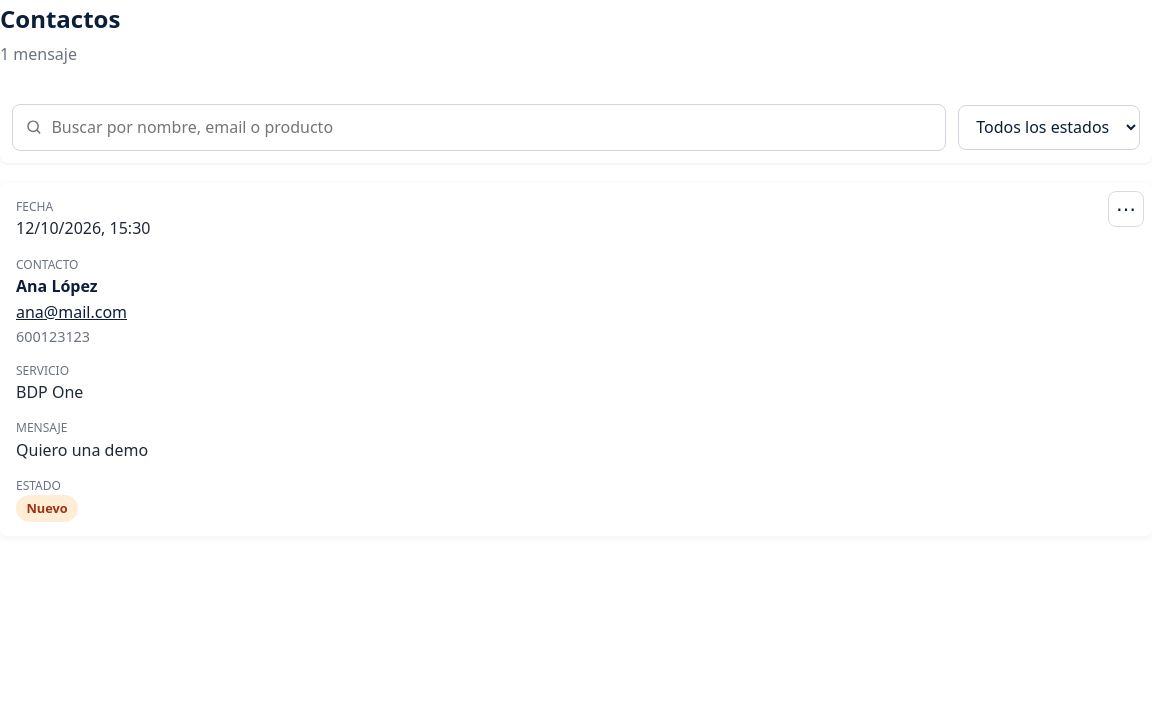
admin screens › Contactos: asks before archiving a contact
Click the button with test id "row-actions" showing "⋯": [1126, 209] box [1108,191,1144,227]
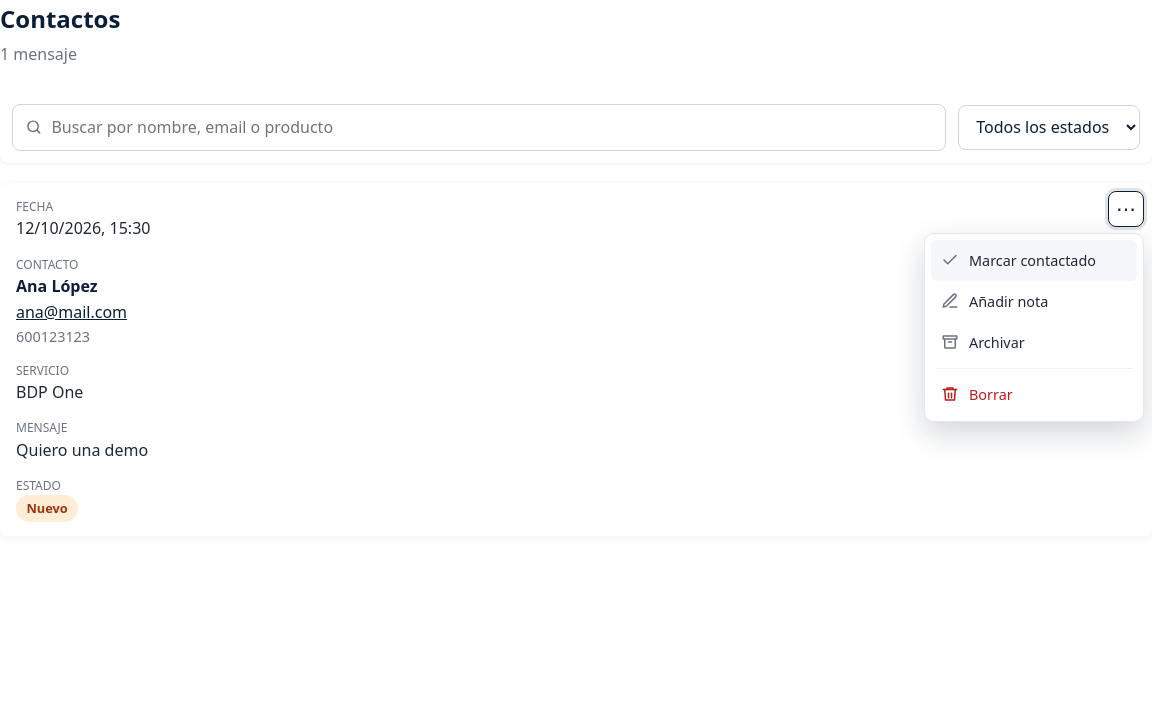
Click the menu item "Archivar": [1034, 342] box [931,322,1137,363]
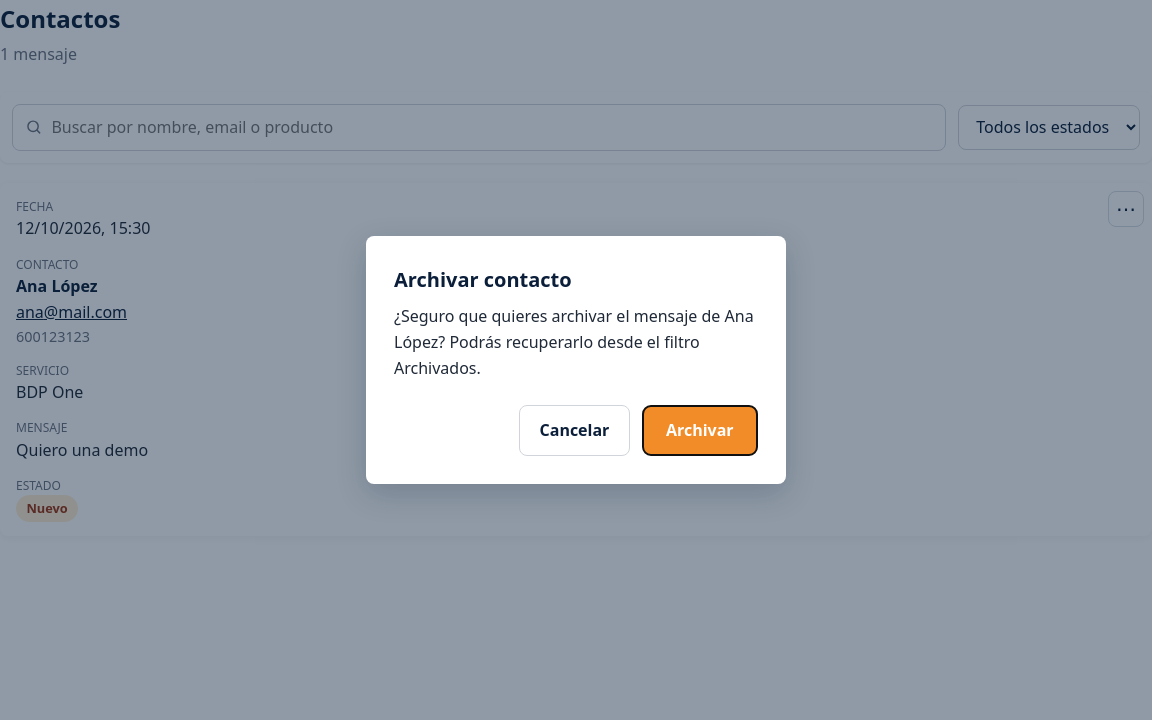
Click the button with class "confirm-dialog__confirm": [700, 430] box [642,405,758,456]
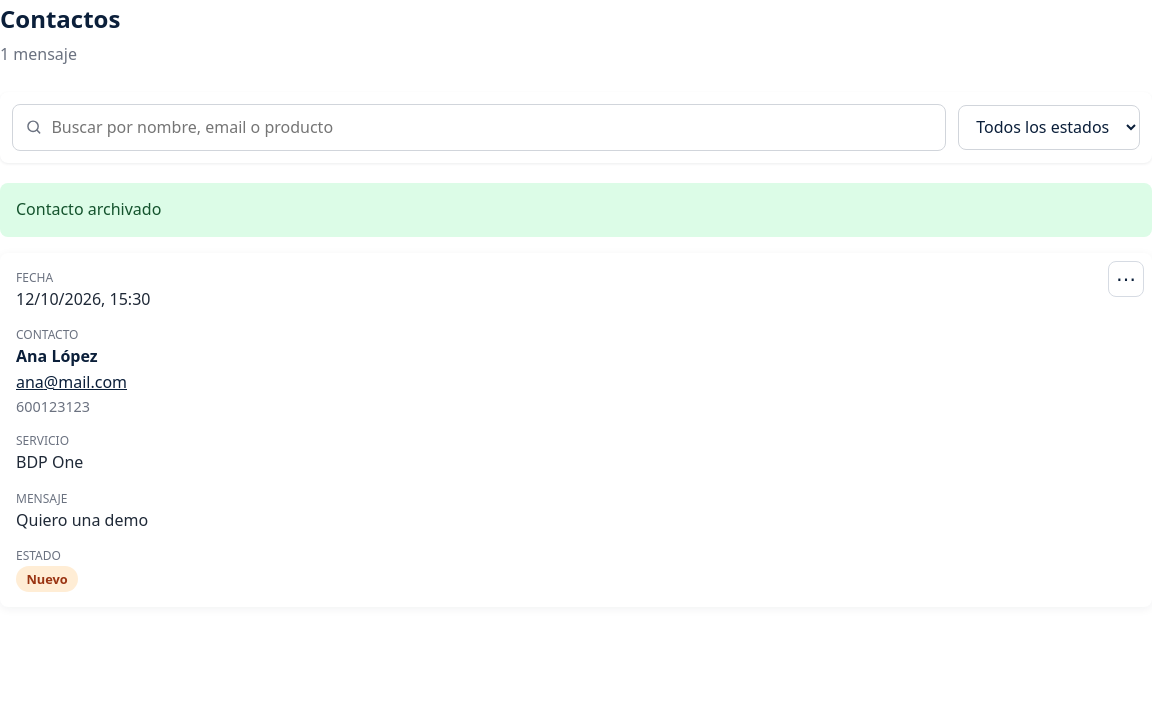
Check: the message "Contacto archivado" is shown, box [0,183,1151,237]
